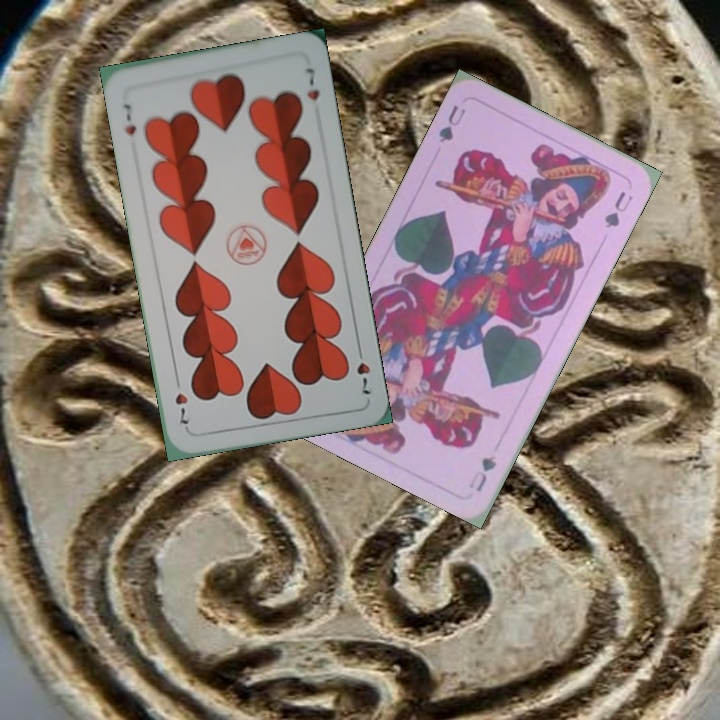GU: (434, 101, 469, 145), (464, 451, 499, 495)
H7: (352, 341, 374, 397), (119, 100, 139, 138)
